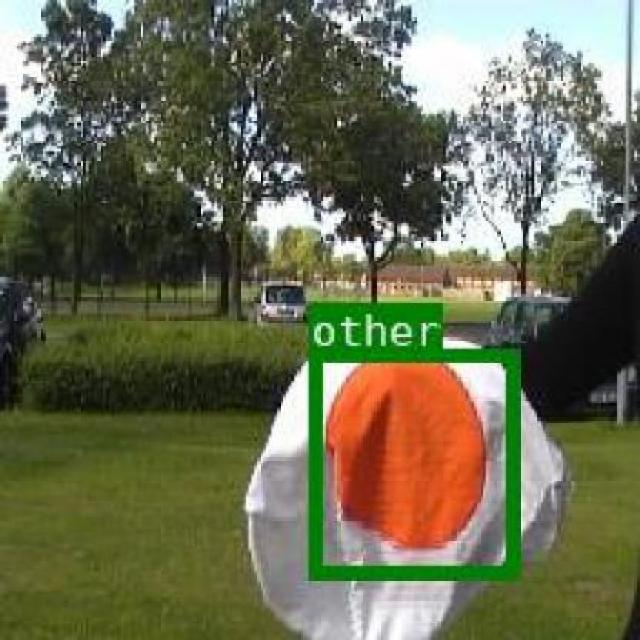other: (308, 346, 517, 577)
